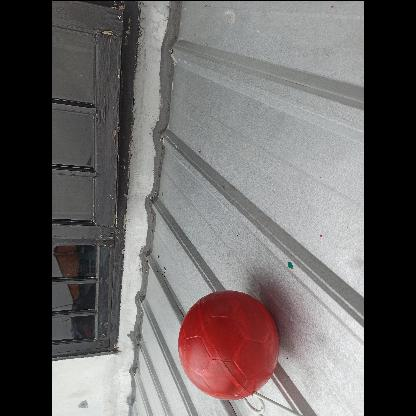red_ball: (173, 292, 279, 398)
